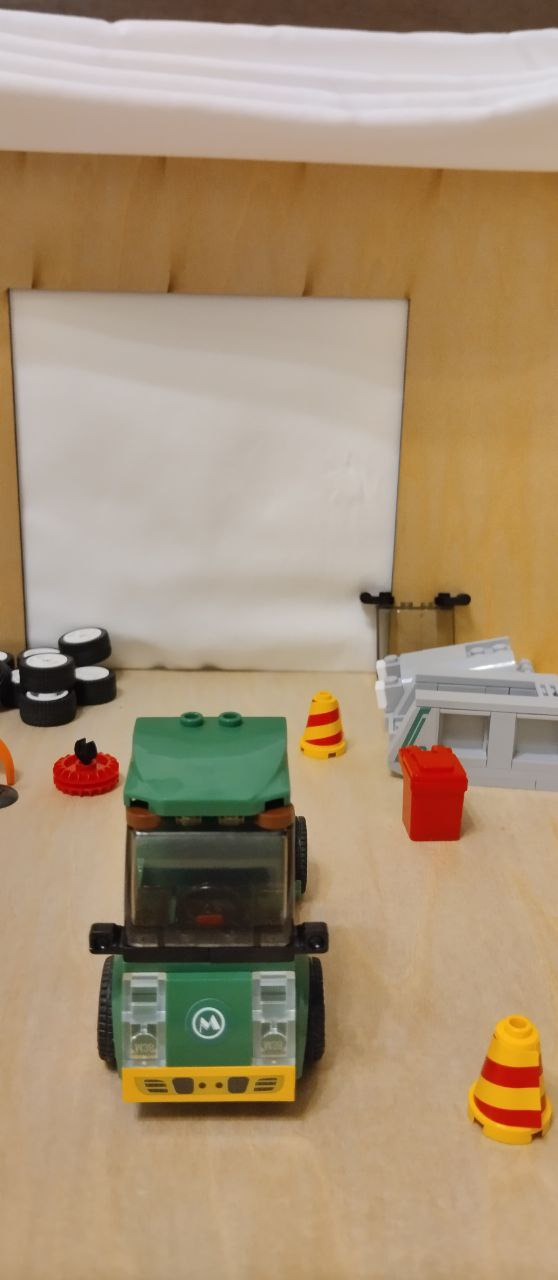Cone: (451, 1014, 558, 1150), (294, 690, 355, 762)
Object Red: (395, 740, 472, 851)
Truck: (79, 707, 338, 1112)
